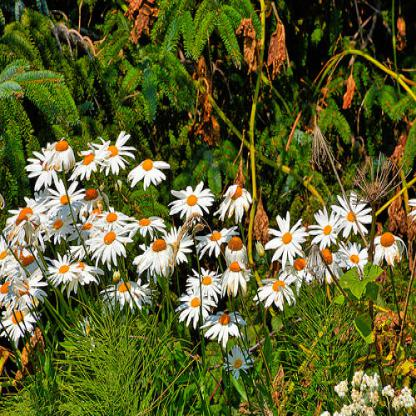ASTER: (1, 108, 412, 367)
